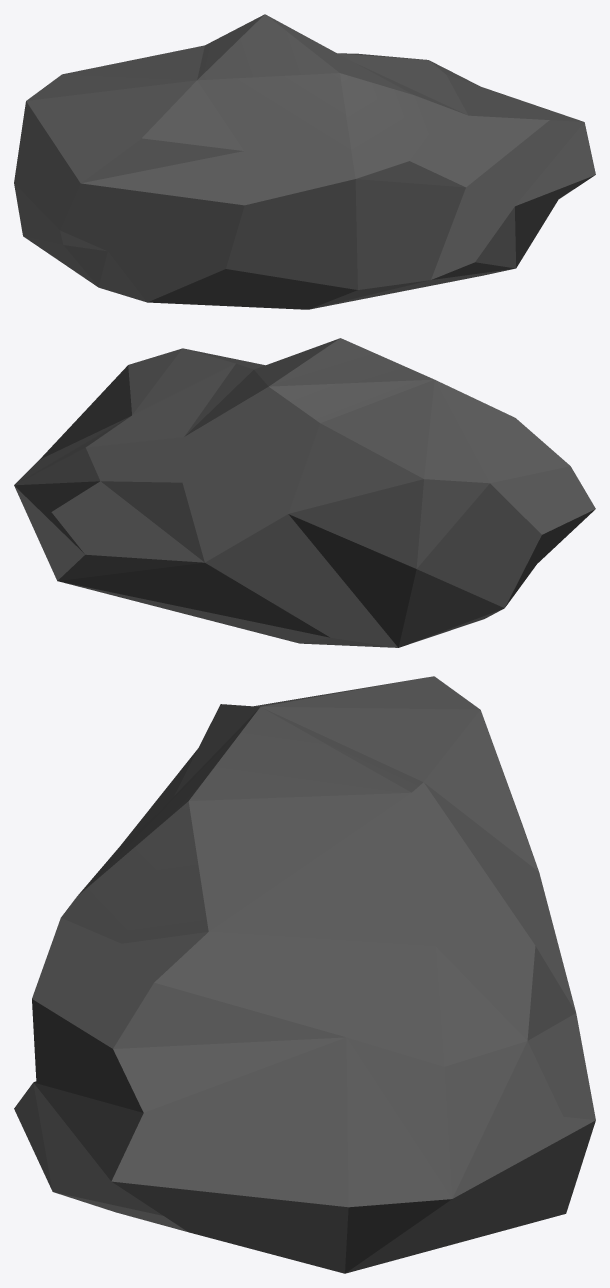
The model's file is stone_2.fbx.
3 renders of one model, top to bottom at view 1: azimuth 30°, elevation 25°; view 2: azimuth 150°, elevation 25°; view 3: azimuth 270°, elevation 25°, orthographic. The views are drawn at different scales.
Visible parts, largest first — view 1: stone_2; view 2: stone_2; view 3: stone_2.
Part boxes in pixels (x1,y1,x2,y2): stone_2: (14,14,595,309); stone_2: (14,338,595,647); stone_2: (14,676,595,1273).
Size of the model in its own units: 166 by 71.35 by 106.
